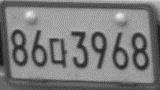3: (70, 31, 88, 68)
6: (111, 31, 129, 70), (31, 29, 47, 66)
8: (131, 32, 149, 70), (10, 29, 28, 66)
9: (90, 30, 107, 69)
다: (49, 37, 68, 68)
